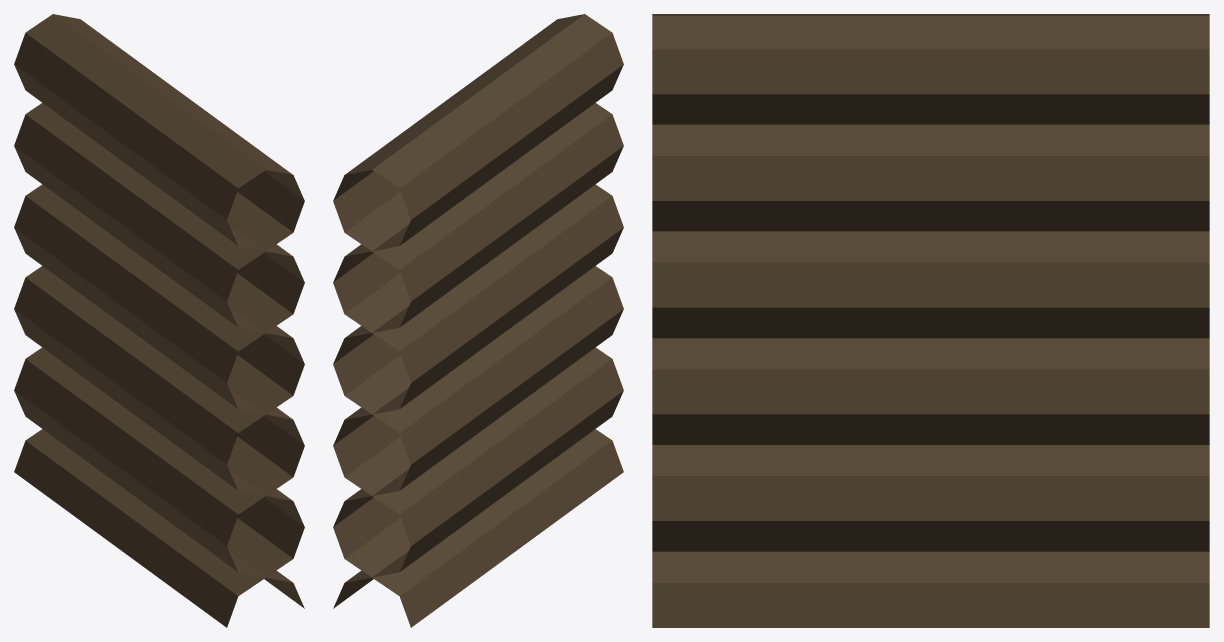
Rendered from Cabin_Wall.fbx.
3 views of the same model, side by side, from view 1: azimuth 30°, elevation 25°; view 2: azimuth 150°, elevation 25°; view 3: azimuth 270°, elevation 25° (orthographic). The views are drawn at different scales.
Visible parts, largest first — view 1: Cabin_Wall; view 2: Cabin_Wall; view 3: Cabin_Wall.
Boxes of the visible parts, bbox=[...] form: Cabin_Wall: bbox=[14, 14, 304, 627]; Cabin_Wall: bbox=[333, 14, 623, 627]; Cabin_Wall: bbox=[652, 14, 1209, 627].
Size of the model in its own units: 0.2 by 1.1 by 0.9464.
